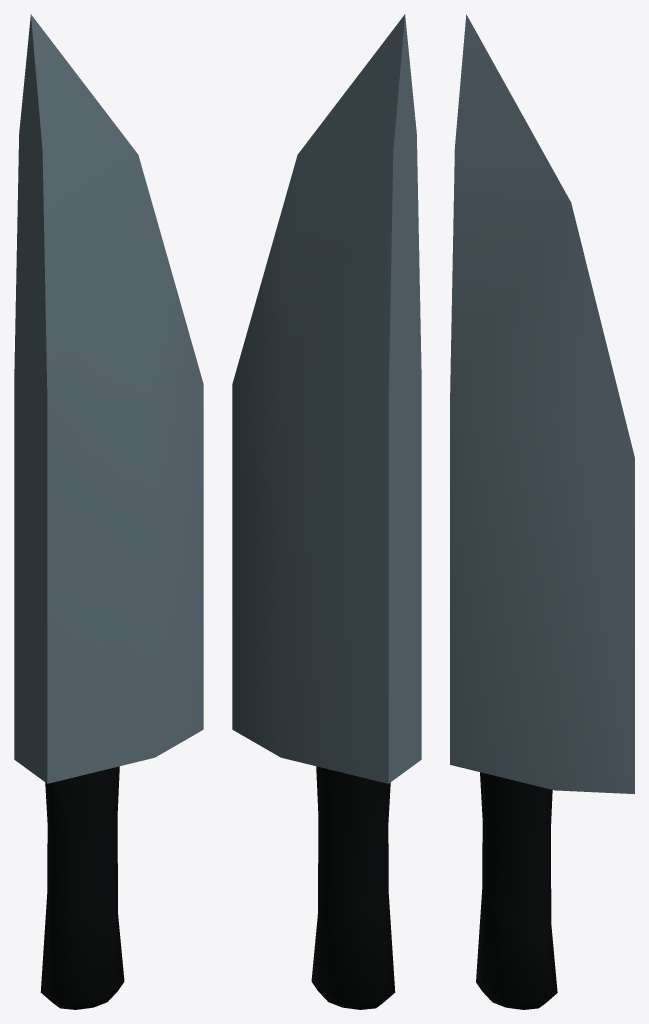
The model's file is knife.obj.
The picture shows the model from 3 angles, left to right: view 1: azimuth 30°, elevation 25°; view 2: azimuth 150°, elevation 25°; view 3: azimuth 330°, elevation 25°; orthographic projection. The views are drawn at different scales.
Visible parts, largest first — view 1: knife_Cylinder.036; view 2: knife_Cylinder.036; view 3: knife_Cylinder.036.
Part boxes in pixels (x1=…): knife_Cylinder.036: x1=14, y1=14, x2=203, y2=1009; knife_Cylinder.036: x1=232, y1=14, x2=421, y2=1009; knife_Cylinder.036: x1=450, y1=14, x2=634, y2=1009.
Bounding box in the file's own units: 0.2539 × 1.4 × 0.0845.
